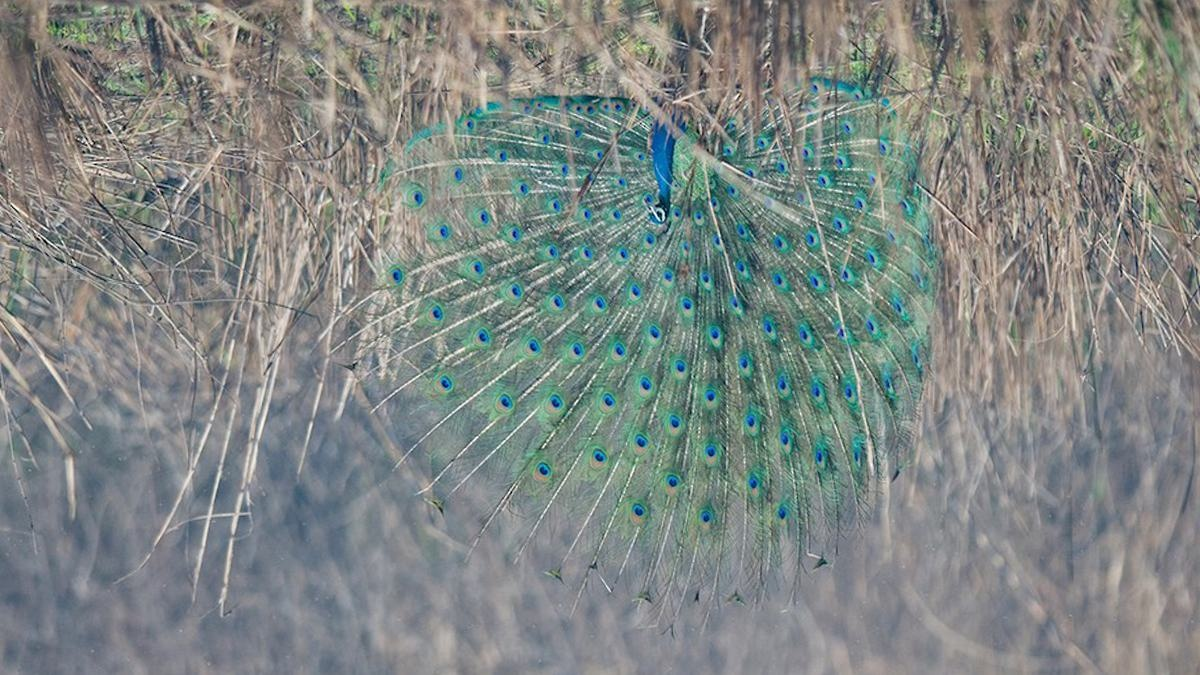peacock: (358, 67, 979, 587)
